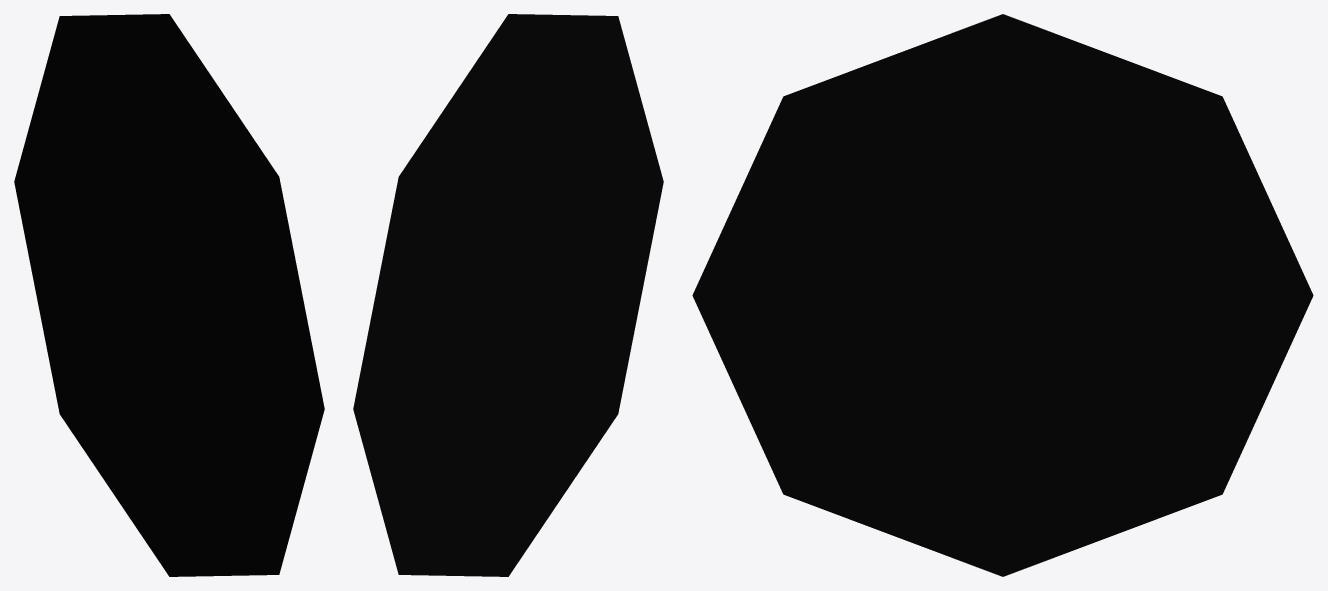
Rendered from Sight_5_Crosshair.fbx.
3 renders of one model, left to right at view 1: azimuth 30°, elevation 25°; view 2: azimuth 150°, elevation 25°; view 3: azimuth 270°, elevation 25°, orthographic.
Parts seen in each view (by area): view 1: Sight_5_Crosshair; view 2: Sight_5_Crosshair; view 3: Sight_5_Crosshair.
Part boxes in pixels (left/top/right/bottom): Sight_5_Crosshair: left=14, top=14, right=324, bottom=576; Sight_5_Crosshair: left=353, top=14, right=663, bottom=576; Sight_5_Crosshair: left=692, top=14, right=1313, bottom=576.
Bounding box in the file's own units: 0 × 2.32 × 2.32.
